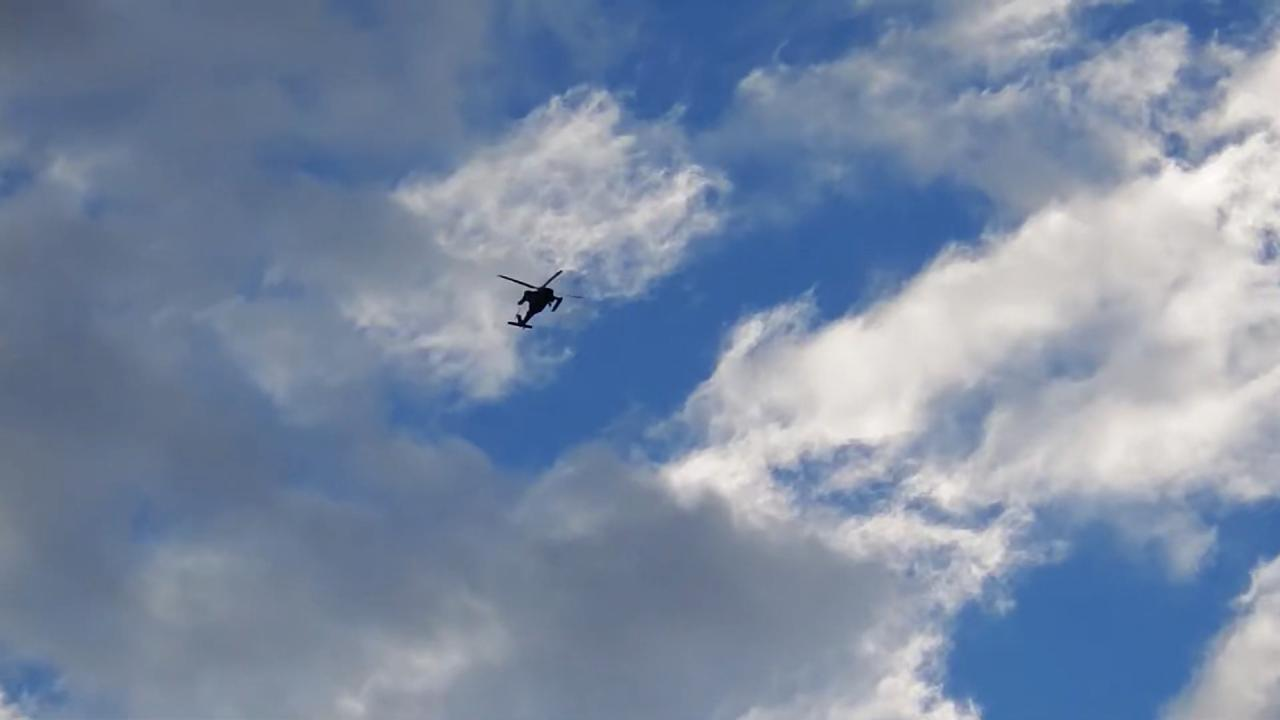Helicopter: (496, 258, 588, 346)
